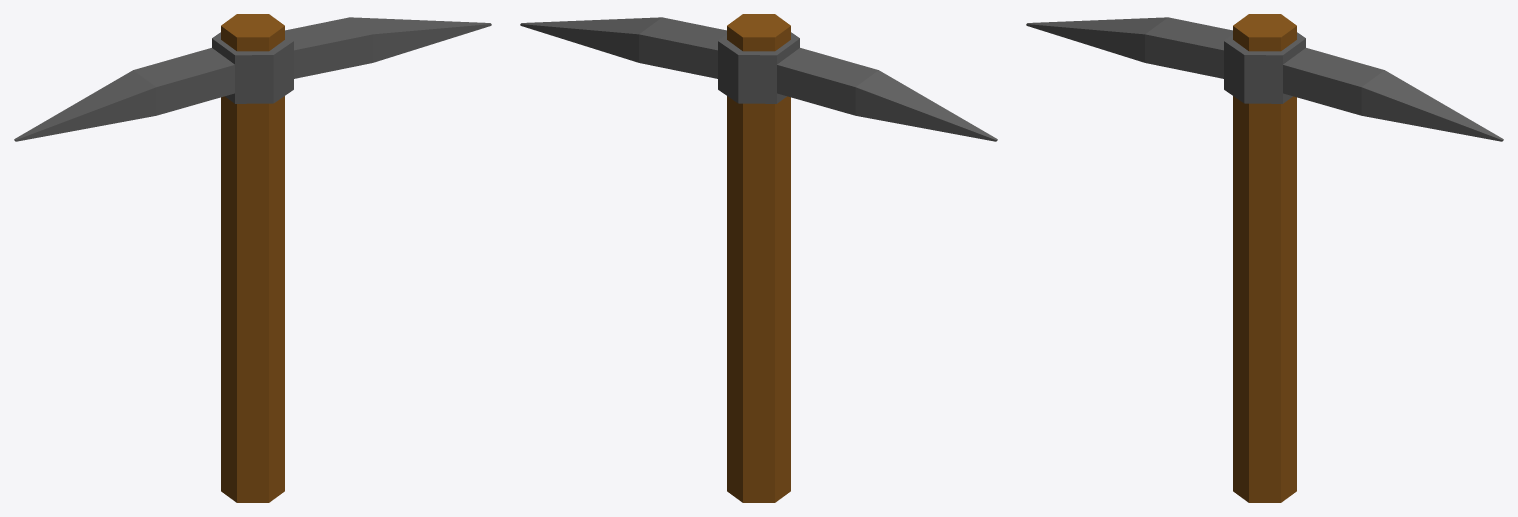
The model's file is Pickaxe.fbx.
The picture shows the model from 3 angles, left to right: view 1: azimuth 30°, elevation 25°; view 2: azimuth 150°, elevation 25°; view 3: azimuth 330°, elevation 25°; orthographic projection.
Visible parts, largest first — view 1: Pickaxe; view 2: Pickaxe; view 3: Pickaxe.
Boxes of the visible parts, left/top/right/bottom form: Pickaxe: left=14, top=14, right=491, bottom=502; Pickaxe: left=520, top=14, right=997, bottom=502; Pickaxe: left=1026, top=14, right=1503, bottom=502.
Size of the model in its own units: 480 by 448 by 72.6.
